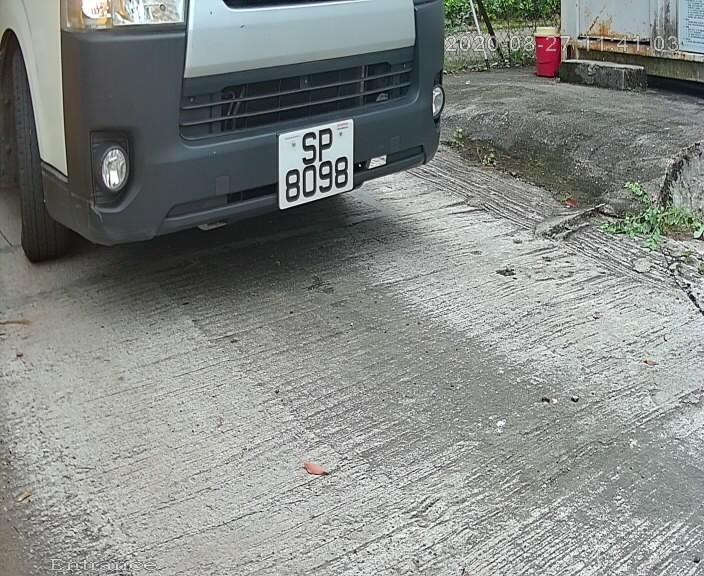License Plate: (268, 114, 365, 209)
